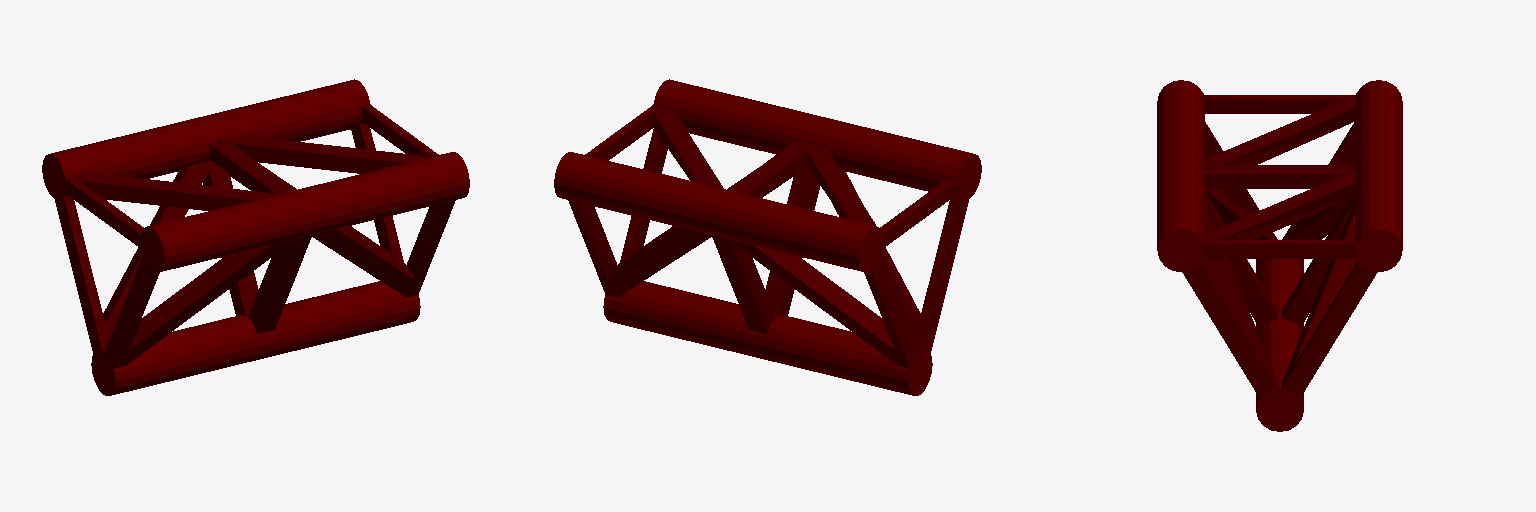
File: intamin.obj
3 renders of one model, left to right at view 1: azimuth 30°, elevation 25°; view 2: azimuth 150°, elevation 25°; view 3: azimuth 270°, elevation 25°, orthographic.
Bounding box in the file's own units: 1.65 × 1.05 × 1.15.